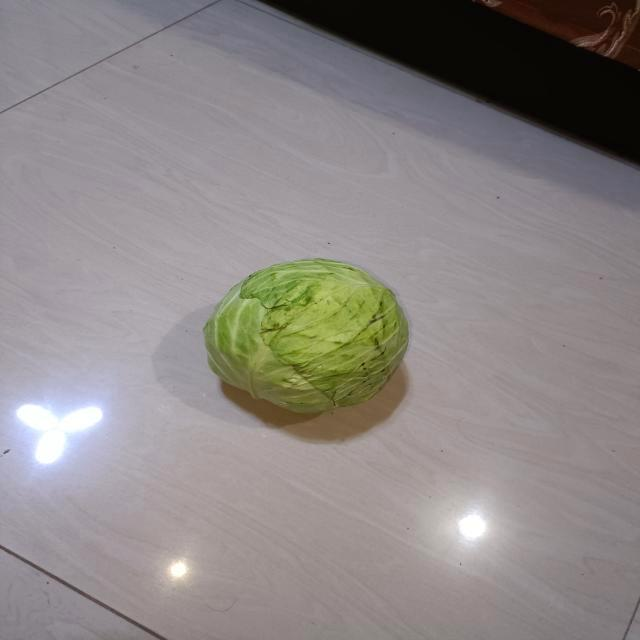cabbage: (202, 258, 413, 417)
